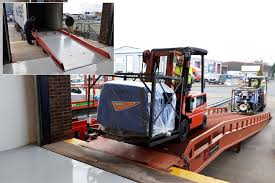Pallet Jack: (95, 47, 209, 148)
Yard Ramp: (81, 107, 273, 171), (31, 28, 113, 71)
